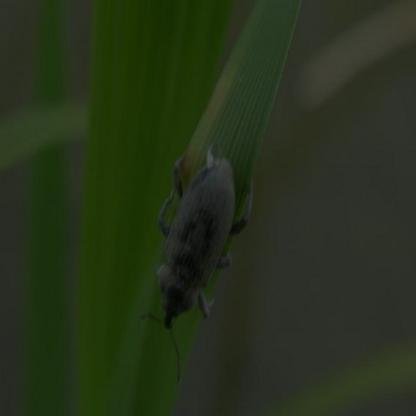rice-bug: (150, 152, 247, 320)
